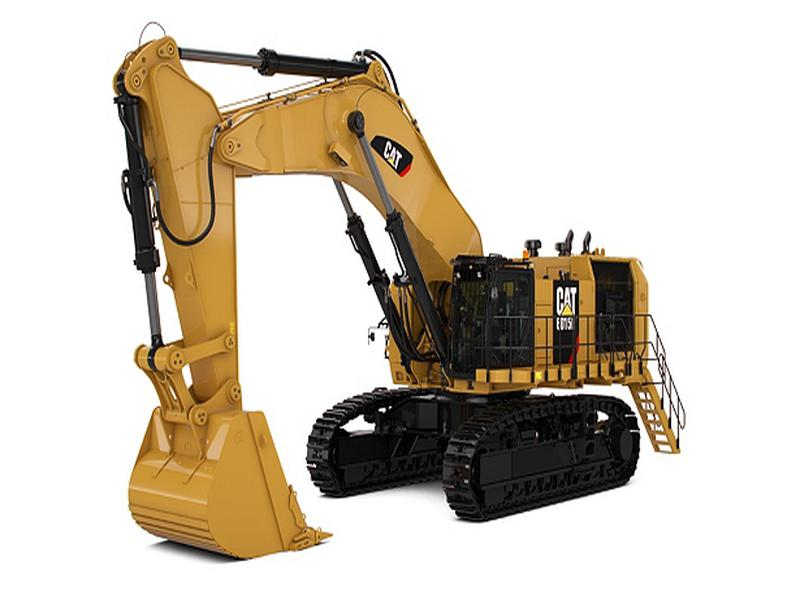shovel: (104, 19, 688, 564)
